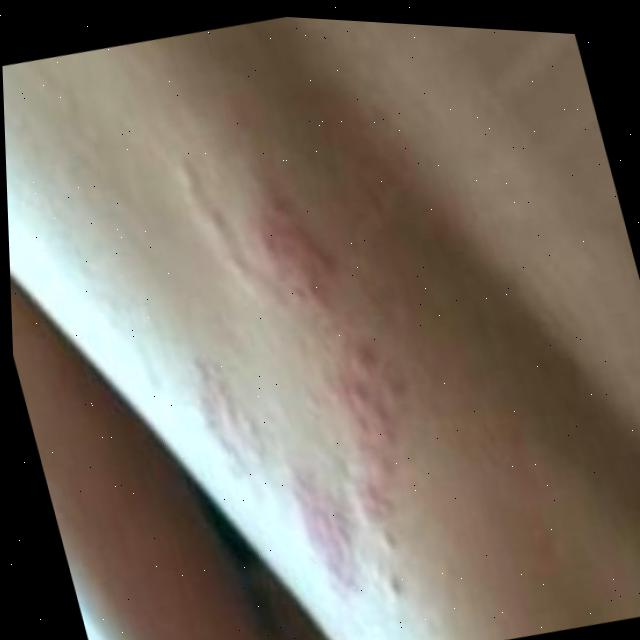Shingles: (150, 176, 438, 618)
